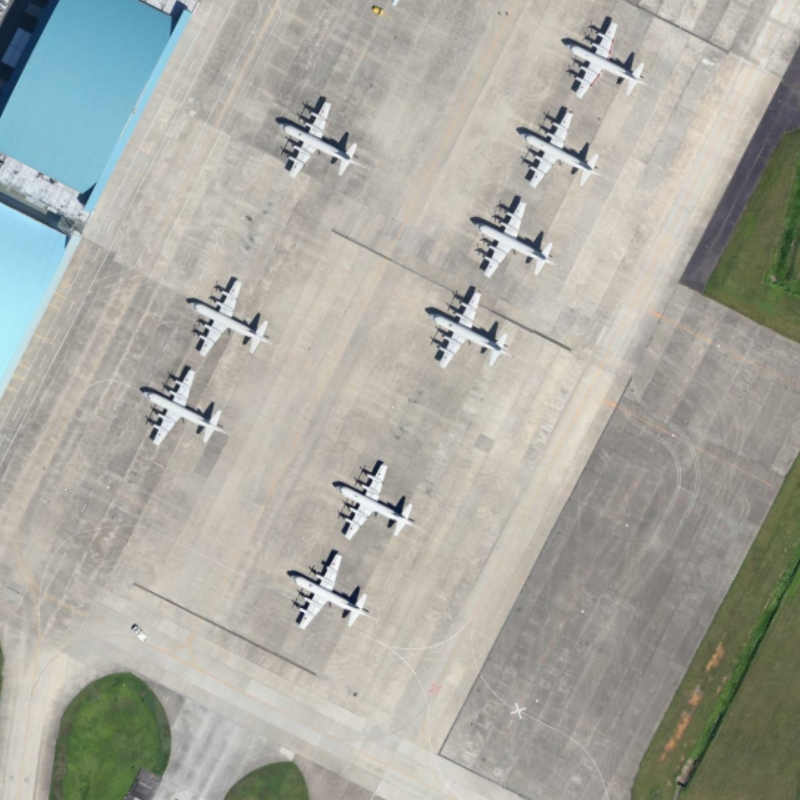A9: (465, 186, 567, 288), (509, 101, 610, 194), (181, 270, 282, 361), (281, 545, 382, 636), (416, 280, 516, 371), (328, 455, 426, 547), (560, 12, 660, 102), (266, 94, 365, 181), (134, 367, 235, 450)
